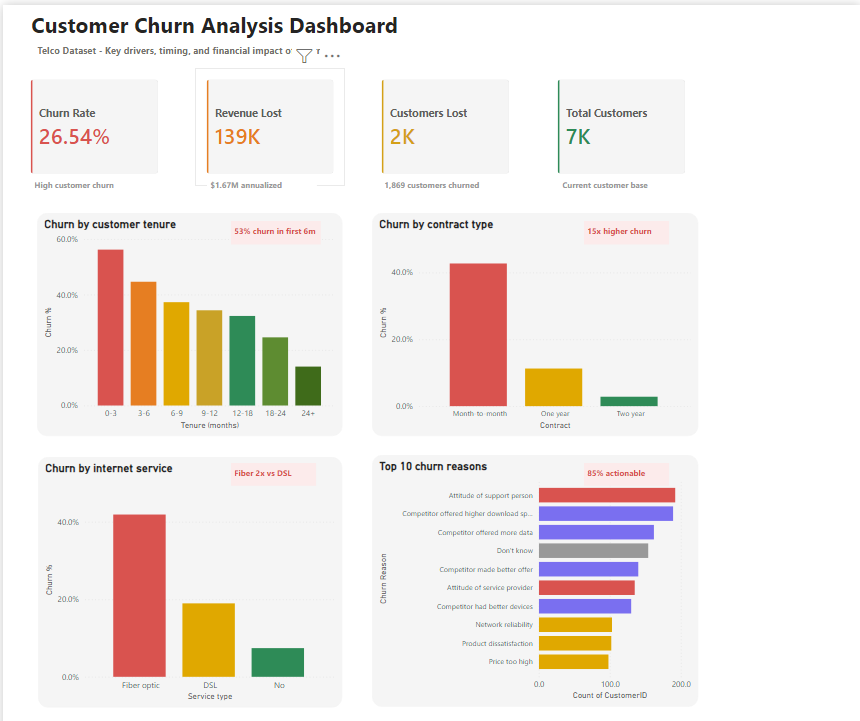

Layout of this report page (visuals, bound fields, positions):
{"tool":"powerbi","page":{"name":"Page 1","canvas":[1280,2400],"ordinal":0},"visuals":[{"type":"columnChart","title":"Churn by customer tenure","fields":{"Y":["customer_Telco_clean.Churn Rate by Tenure"],"Category":["customer_Telco_clean.Tenure Group"]},"box":[50,311.1,455.6,333.3],"z":0},{"type":"columnChart","title":"Churn by contract type","fields":{"Category":["customer_Telco_clean.Contract"],"Y":["customer_Telco_clean.Churn Rate by Tenure"]},"box":[550,311.1,487,333.3],"z":1000},{"type":"clusteredBarChart","title":"Top 10 churn reasons","fields":{"Category":["customer_Telco_clean.Churn Reason"],"Y":["CountNonNull(customer_Telco_clean.CustomerID)"]},"box":[550,672.2,487,375.9],"z":2000},{"type":"columnChart","title":"Churn by internet service","fields":{"Category":["customer_Telco_clean.Internet Service"],"Y":["customer_Telco_clean.Churn Rate"]},"box":[51.9,674.1,453.7,374.1],"z":3000},{"type":"textbox","box":[37.2,1.1,842.6,53.2],"z":4000},{"type":"textbox","box":[45.7,54.3,503.2,40.4],"z":5000},{"type":"cardVisual","fields":{"Data":["customer_Telco_clean.Revenue Lost"]},"box":[286,94.4,224.1,175.9],"z":6000},{"type":"cardVisual","fields":{"Data":["customer_Telco_clean.Total Customers"]},"box":[811.1,94.4,225.9,175.9],"z":7000},{"type":"cardVisual","fields":{"Data":["customer_Telco_clean.Customers Lost"]},"box":[547.6,94.4,225.9,175.9],"z":8000},{"type":"cardVisual","fields":{"Data":["customer_Telco_clean.Churn Rate"]},"box":[23.4,94.4,225,175.5],"z":9000},{"type":"textbox","box":[41.5,253.2,203.2,33],"z":10000},{"type":"textbox","box":[304.2,254.2,163.5,32.3],"z":11000},{"type":"textbox","box":[829.2,254.2,164.6,32.3],"z":12000},{"type":"textbox","box":[564.6,254.2,163.5,32.3],"z":13000},{"type":"textbox","box":[279.8,324.5,134,34],"z":14000},{"type":"textbox","box":[693.6,324.5,127.7,34],"z":15000},{"type":"textbox","box":[279.8,683,127.7,34],"z":16000},{"type":"textbox","box":[727.7,683,127.7,34],"z":17000},{"type":"textbox","box":[709.3,1130.2,307,188.4],"z":18000},{"type":"textbox","box":[380.2,1130.2,307,188.4],"z":19000},{"type":"textbox","box":[51.2,1130.2,307,188.4],"z":20000},{"type":"textbox","box":[51.2,1348.8,307,188.4],"z":21000},{"type":"textbox","box":[380.2,1349,306.2,190.6],"z":22000},{"type":"textbox","box":[52.1,1630.2,307.3,190.6],"z":23000},{"type":"textbox","box":[380.7,1630.2,307.3,190.6],"z":24000},{"type":"textbox","box":[709.4,1630.2,307.3,190.6],"z":25000},{"type":"textbox","box":[52.1,1851,307.3,191.7],"z":26000},{"type":"textbox","box":[51,1068.8,345.8,53.1],"z":27000},{"type":"textbox","box":[52.1,1566.7,330.2,53.1],"z":28000}]}

Visuals, with their boxes on the page's 1280x2400 design canvas (x1, y1, x2, y2). These are canvas units, not pixel positions in the 860x721 screenshot, which may show the page scaled, cropped or inside an application window:
"Churn by customer tenure" columnChart: 50/311/506/644
"Churn by contract type" columnChart: 550/311/1037/644
"Top 10 churn reasons" clusteredBarChart: 550/672/1037/1048
"Churn by internet service" columnChart: 52/674/506/1048
textbox: 37/1/880/54
textbox: 46/54/549/95
cardVisual - customer_Telco_clean.Revenue Lost: 286/94/510/270
cardVisual - customer_Telco_clean.Total Customers: 811/94/1037/270
cardVisual - customer_Telco_clean.Customers Lost: 548/94/774/270
cardVisual - customer_Telco_clean.Churn Rate: 23/94/248/270
textbox: 42/253/245/286
textbox: 304/254/468/286
textbox: 829/254/994/286
textbox: 565/254/728/286
textbox: 280/324/414/358
textbox: 694/324/821/358
textbox: 280/683/408/717
textbox: 728/683/855/717
textbox: 709/1130/1016/1319
textbox: 380/1130/687/1319
textbox: 51/1130/358/1319
textbox: 51/1349/358/1537
textbox: 380/1349/686/1540
textbox: 52/1630/359/1821
textbox: 381/1630/688/1821
textbox: 709/1630/1017/1821
textbox: 52/1851/359/2043
textbox: 51/1069/397/1122
textbox: 52/1567/382/1620
